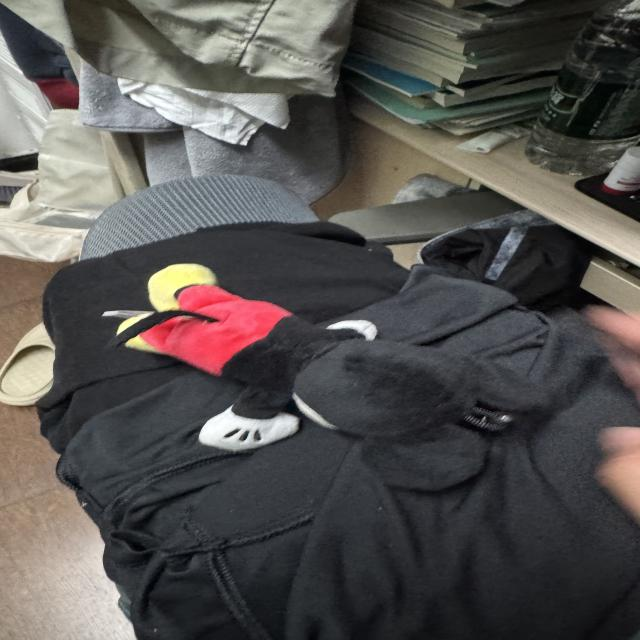mickey: (88, 259, 361, 410)
